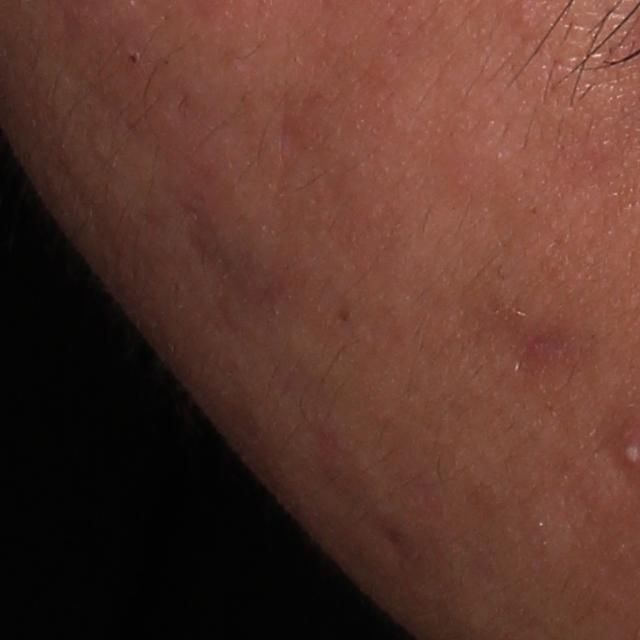comedo: (123, 51, 141, 69)
